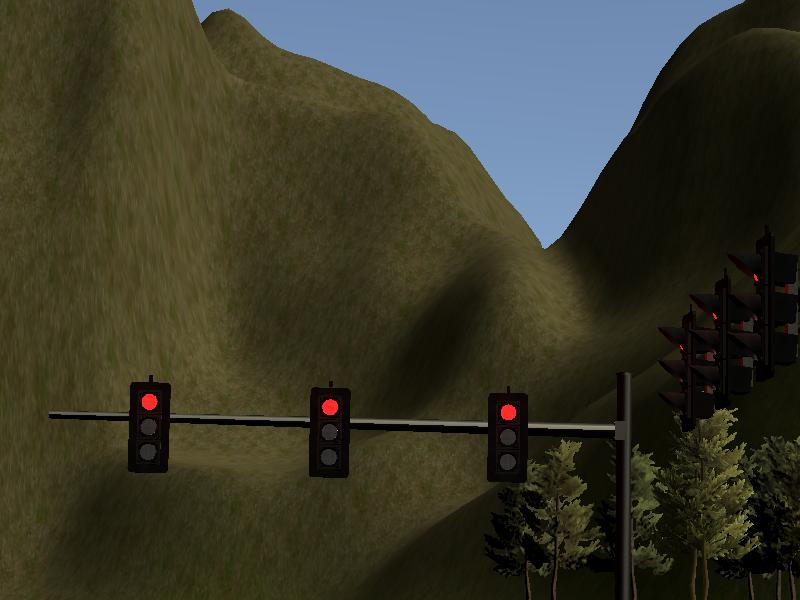red: (131, 383, 170, 474), (311, 388, 350, 479), (486, 393, 525, 484)
